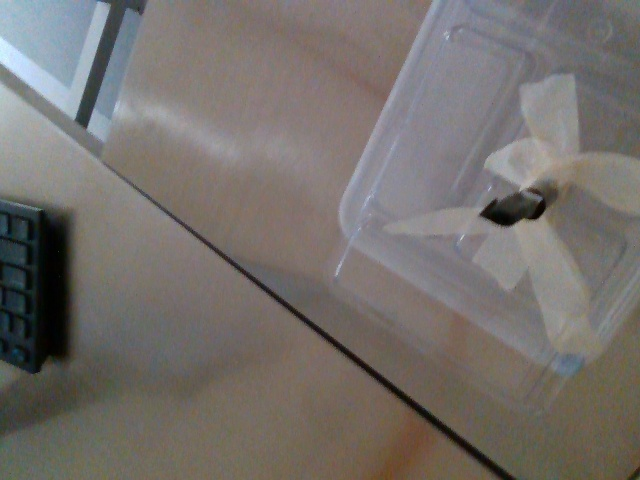test_strip: (478, 188, 545, 227)
